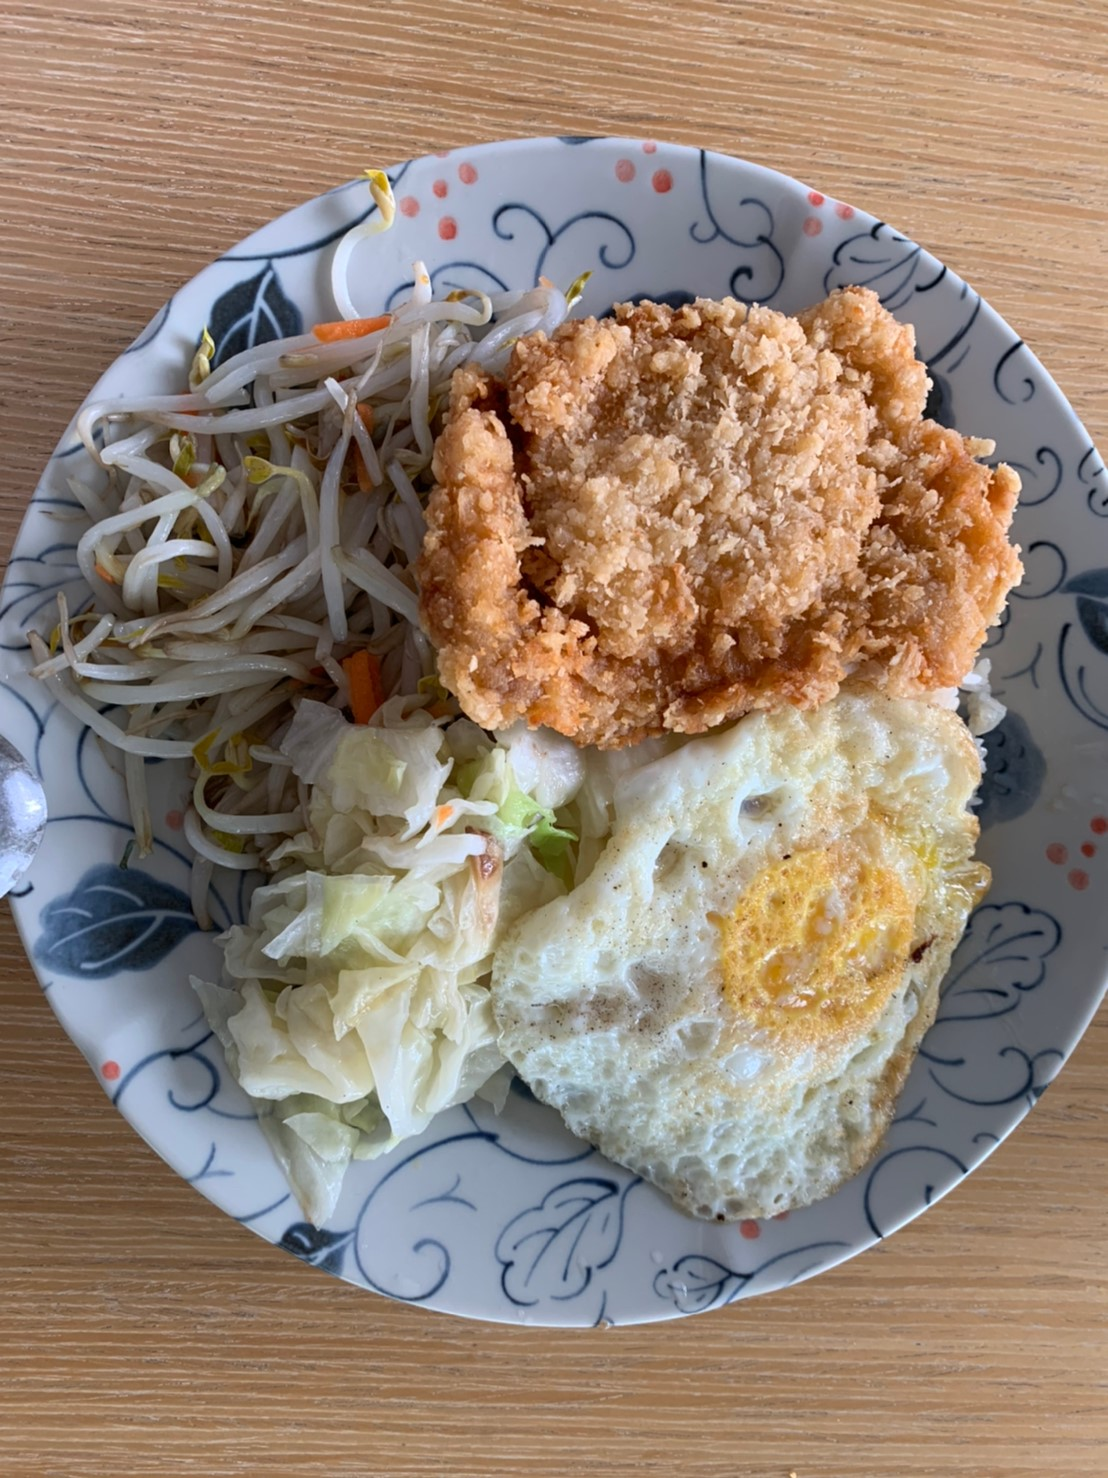chinese_cabbage: (211, 691, 547, 1211)
fried_chicken: (427, 279, 1030, 749)
fried_eggs: (493, 715, 994, 1230)
mung_bean_sprouts: (62, 327, 460, 730)
